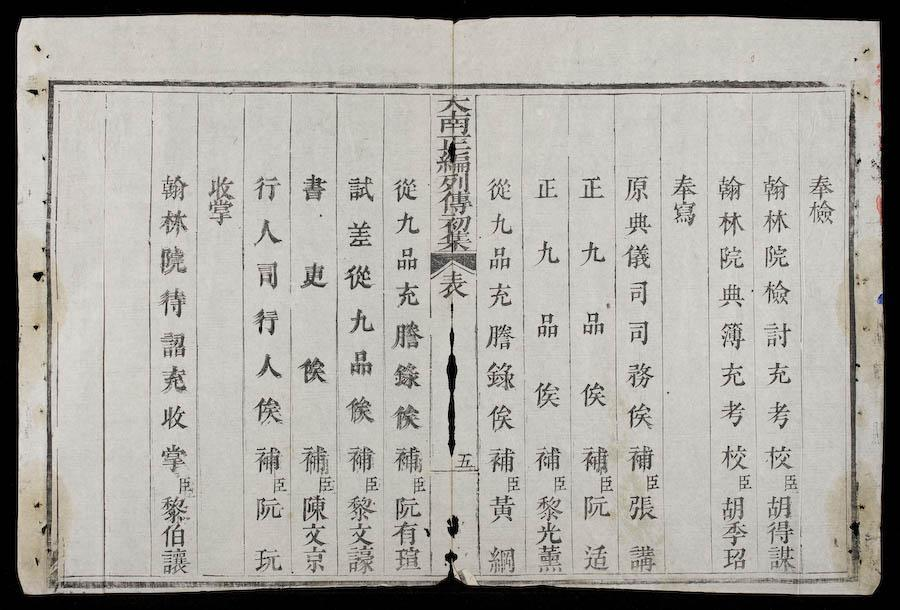c: (433, 136, 472, 166), (483, 358, 518, 391), (155, 286, 190, 317), (298, 442, 331, 474), (391, 319, 424, 351), (486, 492, 519, 524), (251, 394, 285, 425), (157, 363, 190, 394), (760, 318, 794, 348), (436, 269, 470, 299), (343, 545, 378, 574), (485, 401, 517, 432), (251, 216, 283, 247), (484, 321, 516, 352), (486, 443, 518, 474), (157, 244, 189, 275), (624, 399, 656, 430), (157, 329, 189, 360), (578, 442, 611, 472), (251, 443, 284, 473), (391, 443, 424, 473), (390, 401, 423, 431), (157, 207, 190, 237), (759, 277, 793, 306), (717, 441, 751, 470), (158, 494, 192, 523), (158, 547, 193, 575), (250, 544, 285, 572), (436, 190, 473, 216), (344, 218, 375, 249), (344, 394, 376, 424), (391, 360, 423, 390), (252, 258, 282, 290), (158, 441, 190, 471), (531, 442, 564, 471), (625, 542, 658, 571), (621, 241, 654, 270), (158, 401, 189, 431), (717, 358, 747, 389), (298, 259, 329, 289), (717, 319, 747, 350), (158, 172, 189, 202), (531, 379, 562, 409), (486, 543, 517, 573), (343, 262, 375, 291), (344, 443, 376, 472), (714, 208, 746, 237), (297, 355, 329, 384), (623, 359, 655, 388), (762, 358, 794, 387), (533, 543, 565, 572), (579, 541, 611, 570), (625, 493, 658, 521), (759, 206, 792, 234), (762, 442, 795, 470), (344, 494, 378, 521), (435, 229, 473, 253), (434, 112, 472, 136), (485, 280, 515, 310), (625, 442, 656, 471), (251, 306, 282, 335), (251, 173, 282, 202), (345, 174, 377, 202), (764, 544, 797, 571), (436, 215, 473, 239), (763, 399, 793, 428), (392, 279, 422, 308), (717, 397, 747, 426), (346, 306, 376, 335), (622, 173, 652, 202), (300, 172, 329, 202), (760, 173, 790, 202), (253, 351, 283, 380), (347, 347, 375, 378), (760, 242, 791, 270), (714, 173, 745, 201), (299, 493, 330, 521), (533, 493, 565, 520), (579, 493, 612, 519), (485, 244, 514, 273), (532, 238, 561, 267), (623, 277, 652, 306), (577, 239, 607, 267), (716, 243, 746, 271), (533, 310, 561, 340), (669, 172, 699, 200), (716, 281, 746, 309), (391, 175, 421, 203), (483, 175, 514, 202), (391, 545, 423, 571), (434, 93, 473, 114), (392, 209, 421, 237), (393, 244, 421, 273), (299, 546, 329, 573), (391, 494, 422, 520), (253, 495, 284, 521), (805, 200, 837, 225), (579, 308, 607, 336), (579, 380, 608, 407), (577, 174, 606, 201), (718, 493, 747, 520), (623, 209, 652, 236), (764, 493, 794, 519), (205, 199, 235, 225), (206, 174, 236, 200), (159, 522, 189, 548), (719, 520, 749, 546), (390, 520, 421, 545), (764, 519, 795, 544), (486, 210, 513, 238), (531, 175, 560, 201), (806, 172, 835, 198), (533, 520, 564, 544), (345, 521, 376, 545), (624, 318, 651, 345), (670, 200, 698, 226), (719, 546, 749, 570), (299, 522, 329, 546), (436, 173, 472, 192), (169, 472, 194, 494), (406, 474, 427, 494), (780, 472, 799, 492), (733, 472, 753, 491), (269, 475, 288, 494), (501, 474, 521, 492), (314, 475, 334, 493), (455, 451, 474, 469), (549, 473, 567, 492), (362, 474, 380, 493), (642, 473, 660, 491), (596, 475, 614, 492)
